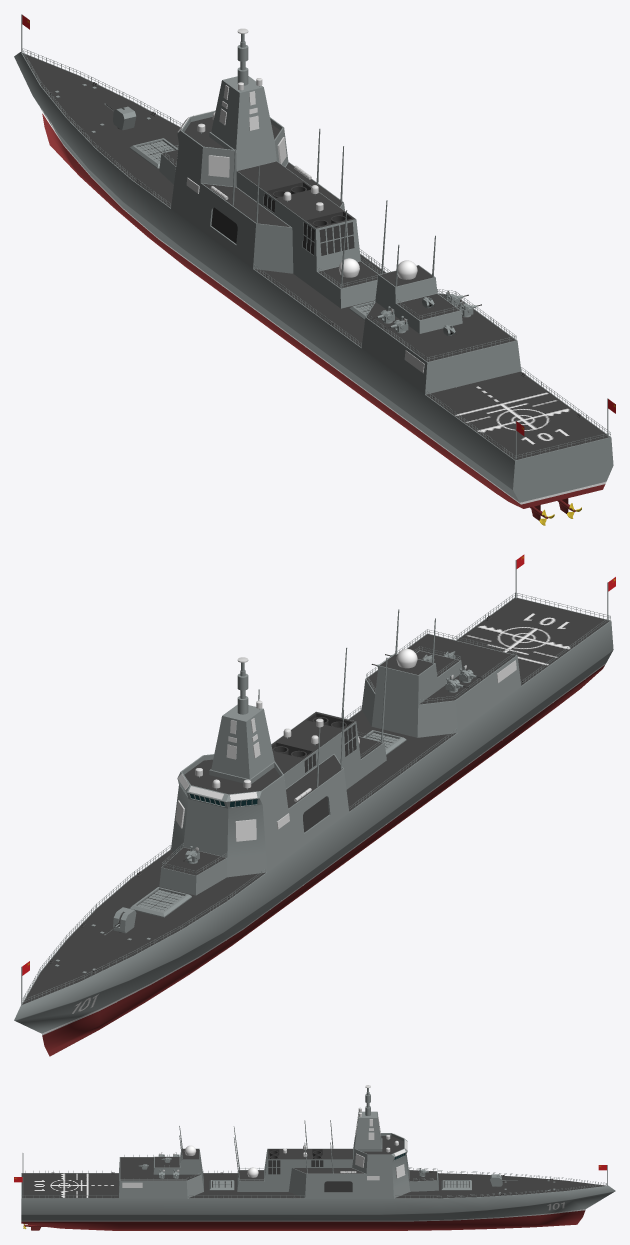
3 views of the same model, one above another, from view 1: azimuth 30°, elevation 25°; view 2: azimuth 150°, elevation 25°; view 3: azimuth 270°, elevation 25° (orthographic). The views are drawn at different scales.
Visible parts, largest first — view 1: S_t055; view 2: S_t055; view 3: S_t055.
Boxes of the visible parts, x1,y1,x2,y2 form: S_t055: (14,14,615,525); S_t055: (14,554,615,1056); S_t055: (14,1085,615,1230).
Size of the model in its own units: 31.21 by 77.08 by 299.
Materials: 35 (35 with a texture image).
